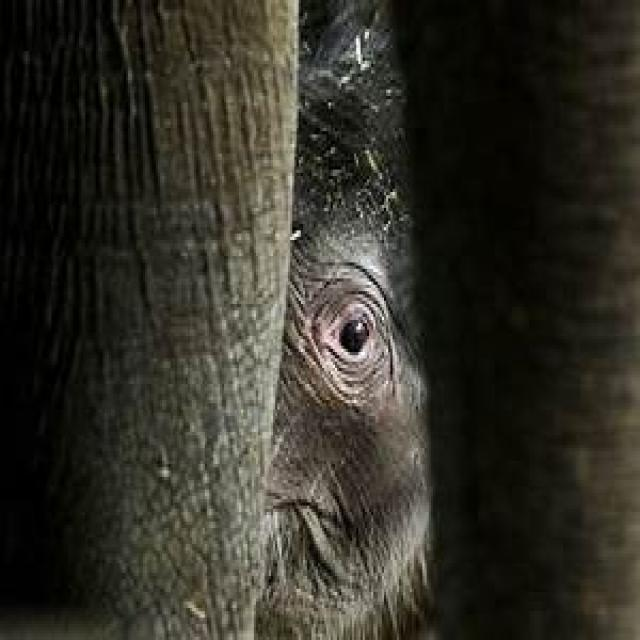elephant: (250, 0, 439, 640)
